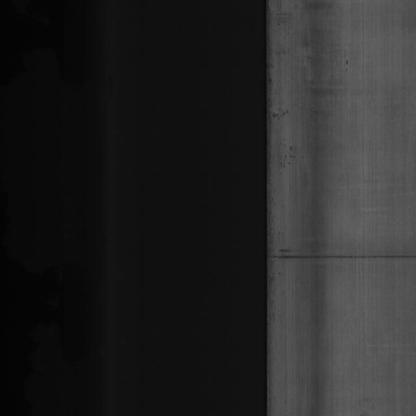crease: (268, 242, 416, 271)
